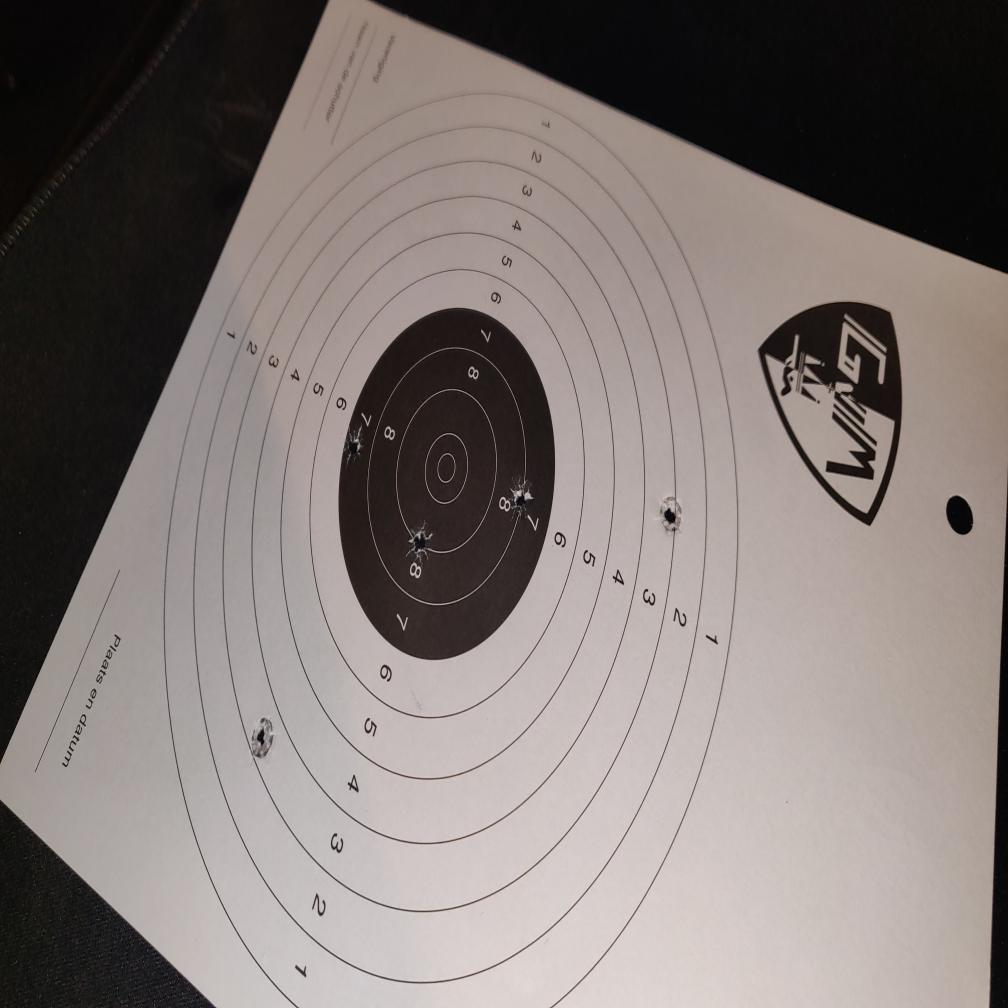3: (659, 492, 685, 536)
4: (248, 713, 278, 766)
7: (342, 422, 366, 463)
8: (507, 475, 537, 525)
9: (407, 515, 432, 564)
Target: (158, 88, 739, 1008)
black_contour: (338, 308, 556, 661)
